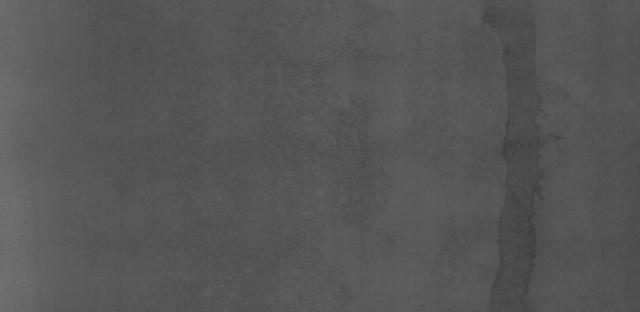water_spot: (473, 9, 563, 312)
